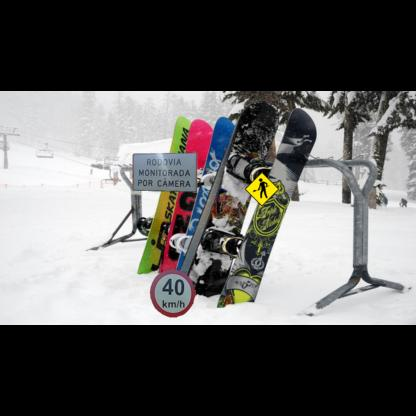A-24: (245, 172, 279, 206)
I-E: (132, 152, 197, 193)
R-19: (150, 269, 195, 317)
